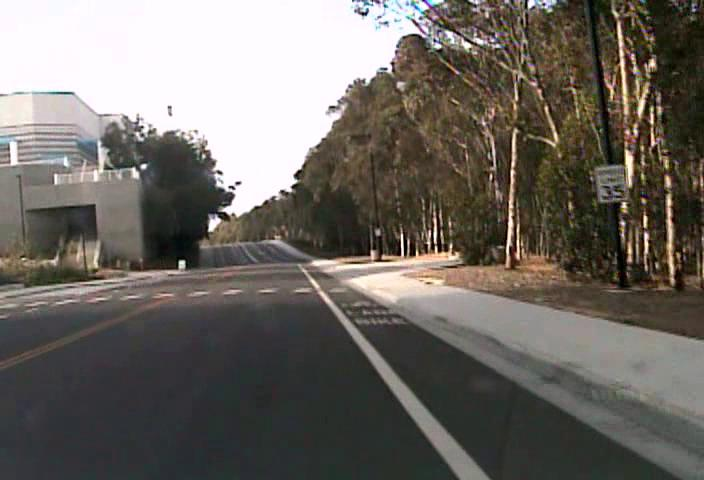speedLimit35: (594, 164, 628, 203)
